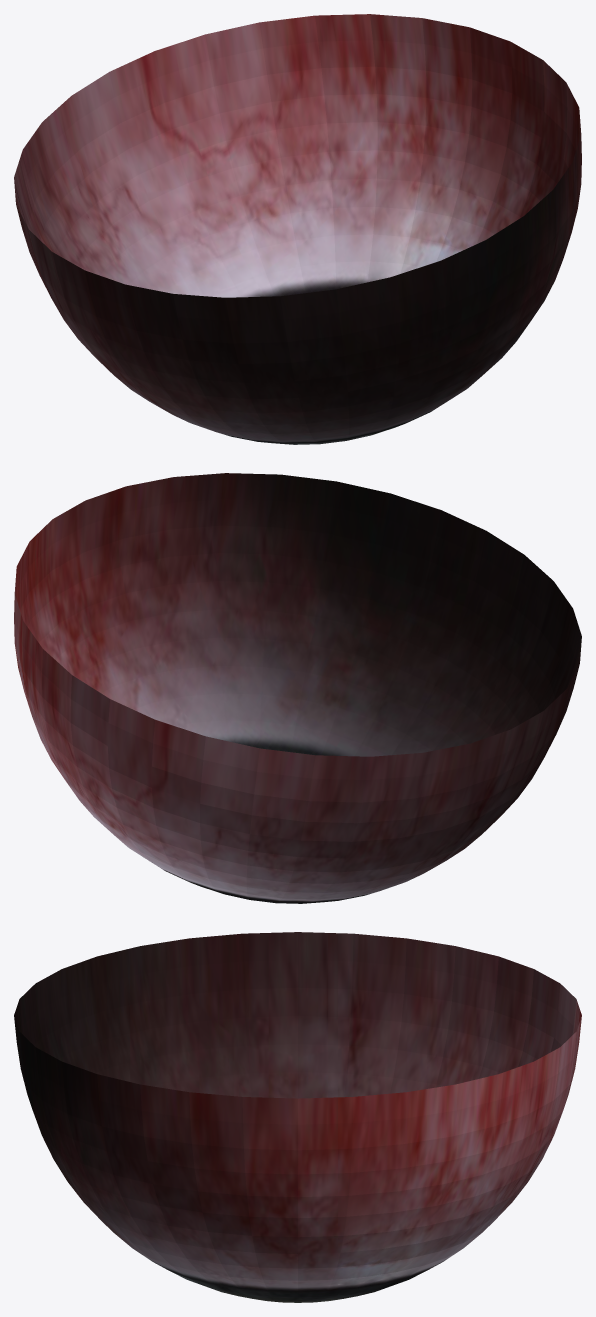
File: bloodyeyeball2.dae
3 renders of one model, top to bottom at view 1: azimuth 30°, elevation 25°; view 2: azimuth 150°, elevation 25°; view 3: azimuth 270°, elevation 25°, orthographic.
Visible parts, largest first — view 1: Sphere_001; view 2: Sphere_001; view 3: Sphere_001.
Part boxes in pixels (box(x1,y1,x2,y2)): Sphere_001: box(14, 14, 581, 444); Sphere_001: box(14, 473, 581, 903); Sphere_001: box(14, 932, 581, 1302).
Size of the model in its own units: 1.95 by 1.96 by 1.13.
